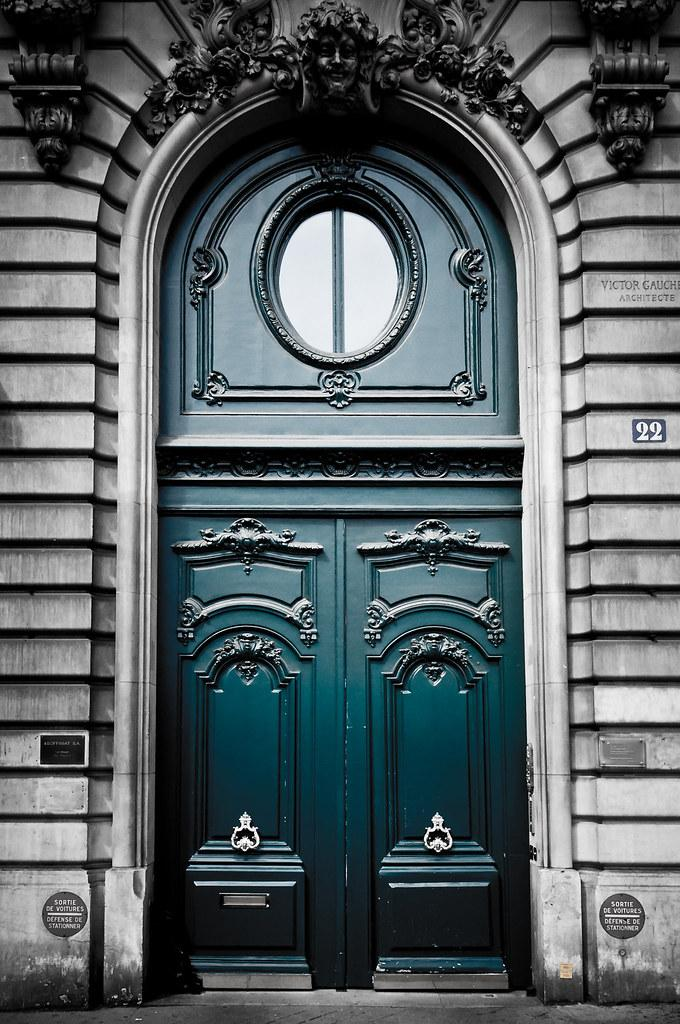door: (160, 491, 527, 993)
